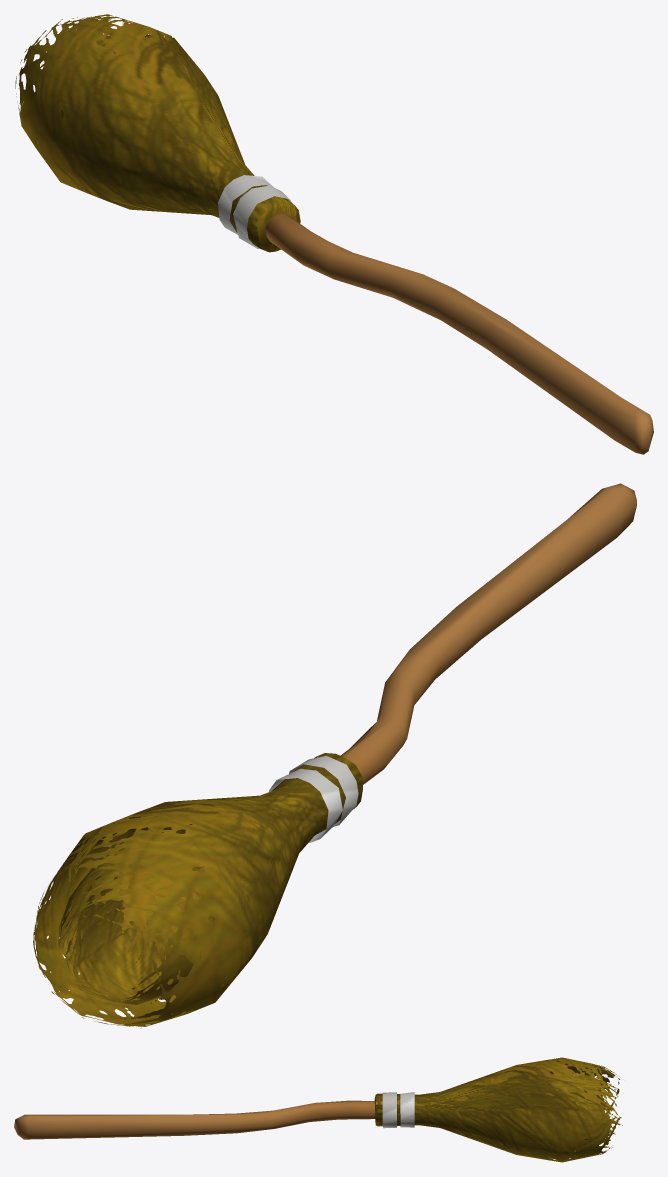
File: broom-right.fbx
The picture shows the model from 3 angles, top to bottom: view 1: azimuth 30°, elevation 25°; view 2: azimuth 150°, elevation 25°; view 3: azimuth 270°, elevation 25°; orthographic projection. The views are drawn at different scales.
Visible parts, largest first — view 1: Cube; view 2: Cube; view 3: Cube.
Boxes of the visible parts, x1=… form: Cube: x1=15, y1=14, x2=653, y2=454; Cube: x1=33, y1=483, x2=636, y2=1028; Cube: x1=14, y1=1057, x2=622, y2=1162.
Size of the model in its own units: 0.2917 by 0.2911 by 1.83.
